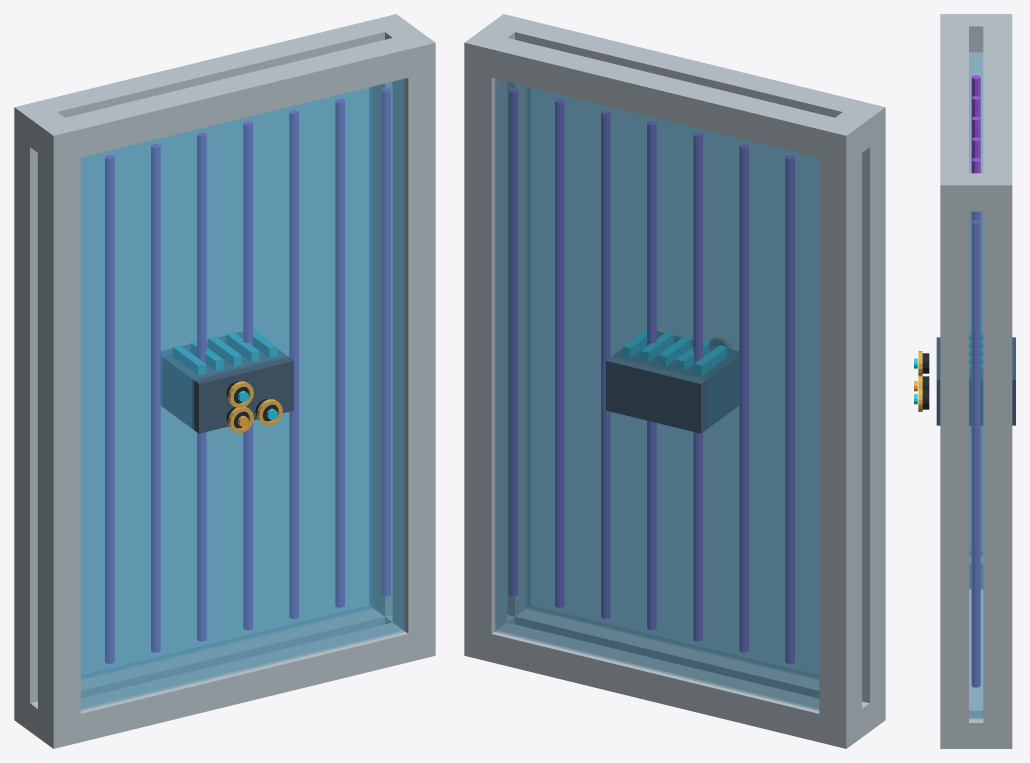
The model's file is 43_L82_RFImmunityCouplingFixture.fbx.
3 renders of one model, left to right at view 1: azimuth 30°, elevation 25°; view 2: azimuth 150°, elevation 25°; view 3: azimuth 270°, elevation 25°, orthographic. The views are drawn at different scales.
Visible parts, largest first — view 1: RFImmunityCouplingFixture, RFImmunityCouplingFixture_Part_0024; view 2: RFImmunityCouplingFixture, RFImmunityCouplingFixture_Part_0024; view 3: RFImmunityCouplingFixture, RFImmunityCouplingFixture_Part_0024.
Part boxes in pixels (x1,y1,x2,y2): RFImmunityCouplingFixture: (14,14,435,748); RFImmunityCouplingFixture_Part_0024: (161,332,293,433); RFImmunityCouplingFixture: (464,14,885,748); RFImmunityCouplingFixture_Part_0024: (606,332,738,433); RFImmunityCouplingFixture: (914,14,1012,748); RFImmunityCouplingFixture_Part_0024: (936,337,1015,425).
Size of the model in its own units: 225 by 345 by 56.5.
